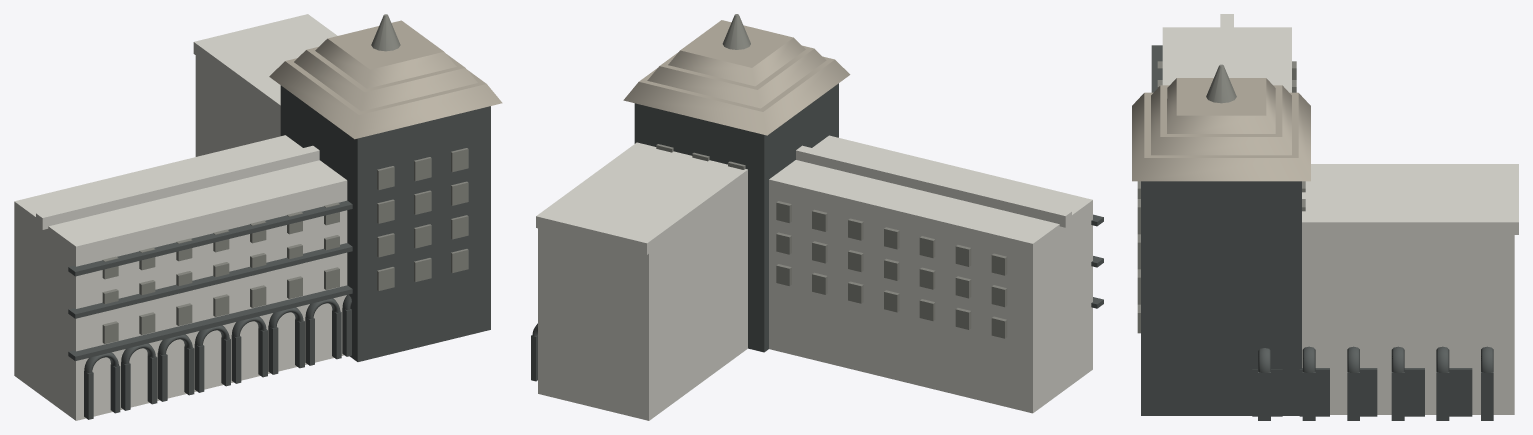
Rendered from eu-court.glb.
3 renders of one model, left to right at view 1: azimuth 30°, elevation 25°; view 2: azimuth 150°, elevation 25°; view 3: azimuth 270°, elevation 25°, orthographic. The views are drawn at different scales.
Parts seen in each view (by area): view 1: stamford-road-wing/form, corner-tower/form, roof-parapets/form (×2), corner-pavilion-roof/roof-tier-0, hill-street-wing/form, corner-pavilion-roof/roof-tier-2, corner-pavilion-roof/roof-tier-1, projecting-ledges/ledge-0, projecting-ledges/ledge-2, projecting-ledges/ledge-1, corner-pavilion-roof/finial, ground-arcades/stamford-arch-5-left (+14 smaller); view 2: stamford-road-wing/form, hill-street-wing/form, roof-parapets/form (×2), corner-tower/form, corner-pavilion-roof/roof-tier-0, corner-pavilion-roof/roof-tier-2, corner-pavilion-roof/roof-tier-1, corner-pavilion-roof/finial; view 3: corner-tower/form, hill-street-wing/form, roof-parapets/form (×2), corner-pavilion-roof/roof-tier-0, stamford-road-wing/form, corner-pavilion-roof/roof-tier-2, corner-pavilion-roof/roof-tier-1, rear-window-grids/rear-hill-street-service-bay-1, rear-window-grids/rear-hill-street-service-bay-2, rear-window-grids/rear-hill-street-service-bay-4, rear-window-grids/rear-hill-street-service-bay-3, rear-window-grids/rear-hill-street-service-bay-5 (+8 smaller).
Boxes of the visible parts, x1,y1,x2,y2 form: stamford-road-wing/form: (14,135,347,420); corner-tower/form: (280,85,490,361); roof-parapets/form (×2): (36,14,337,229); corner-pavilion-roof/roof-tier-0: (269,58,502,139); hill-street-wing/form: (195,53,280,156); corner-pavilion-roof/roof-tier-2: (315,20,456,88); corner-pavilion-roof/roof-tier-1: (294,46,477,111); projecting-ledges/ledge-0: (68,285,352,360); projecting-ledges/ledge-2: (68,200,352,276); projecting-ledges/ledge-1: (68,243,352,318); corner-pavilion-roof/finial: (371,14,400,51); ground-arcades/stamford-arch-5-left: (268,325,278,374); stamford-road-wing/form: (769,135,1092,413); hill-street-wing/form: (538,181,747,420); roof-parapets/form (×2): (536,142,1071,254); corner-tower/form: (634,83,838,352); corner-pavilion-roof/roof-tier-0: (623,56,850,135); corner-pavilion-roof/roof-tier-2: (668,20,805,86); corner-pavilion-roof/roof-tier-1: (647,45,826,108); corner-pavilion-roof/finial: (722,14,750,49); corner-tower/form: (1141,181,1301,415); hill-street-wing/form: (1302,232,1514,414); roof-parapets/form (×2): (1220,14,1518,234); corner-pavilion-roof/roof-tier-0: (1132,92,1310,181); stamford-road-wing/form: (1162,27,1291,92); corner-pavilion-roof/roof-tier-2: (1167,78,1275,133); corner-pavilion-roof/roof-tier-1: (1151,85,1291,155); rear-window-grids/rear-hill-street-service-bay-1: (1449,368,1472,416); rear-window-grids/rear-hill-street-service-bay-2: (1404,368,1424,416); rear-window-grids/rear-hill-street-service-bay-4: (1299,368,1329,416); rear-window-grids/rear-hill-street-service-bay-3: (1360,368,1377,416); rear-window-grids/rear-hill-street-service-bay-5: (1252,369,1282,416).
Size of the model in its own units: 17.88 by 12.15 by 13.46.
